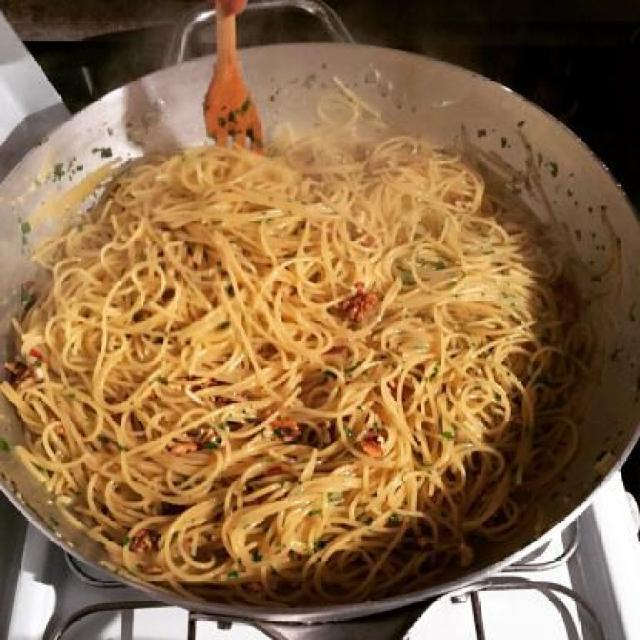Oil pasta: (16, 73, 607, 590)
